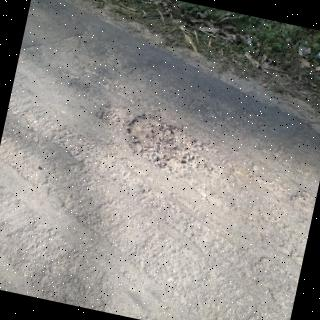pothole: (126, 114, 223, 182)
